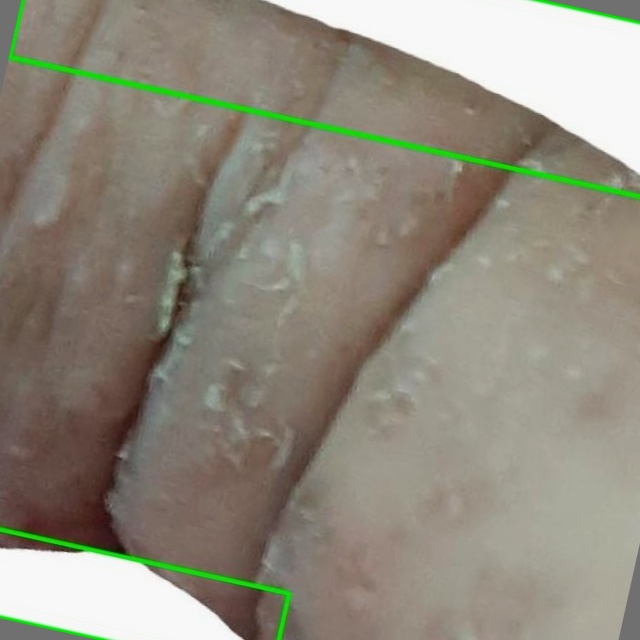Scabies: (9, 0, 639, 197), (0, 529, 288, 639)
